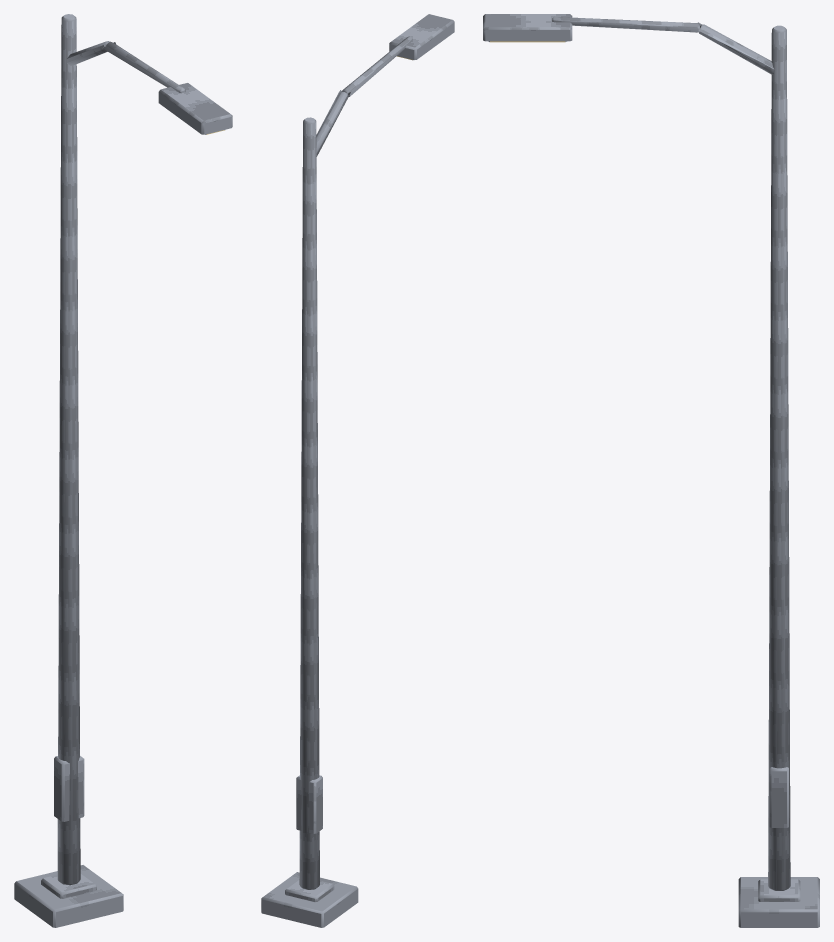
Rendered from modern_street_lamp_0.glb.
3 views of the same model, side by side, from view 1: azimuth 30°, elevation 25°; view 2: azimuth 150°, elevation 25°; view 3: azimuth 270°, elevation 25° (orthographic). The views are drawn at different scales.
Parts seen in each view (by area): view 1: modern_street_lamp_1; view 2: modern_street_lamp_1; view 3: modern_street_lamp_1.
Part boxes in pixels (x1=…): modern_street_lamp_1: x1=14, y1=14, x2=232, y2=927; modern_street_lamp_1: x1=261, y1=14, x2=454, y2=927; modern_street_lamp_1: x1=483, y1=14, x2=819, y2=927.
Size of the model in its own units: 0.5 by 6.08 by 2.08.
Materials: 3 (3 with a texture image).
